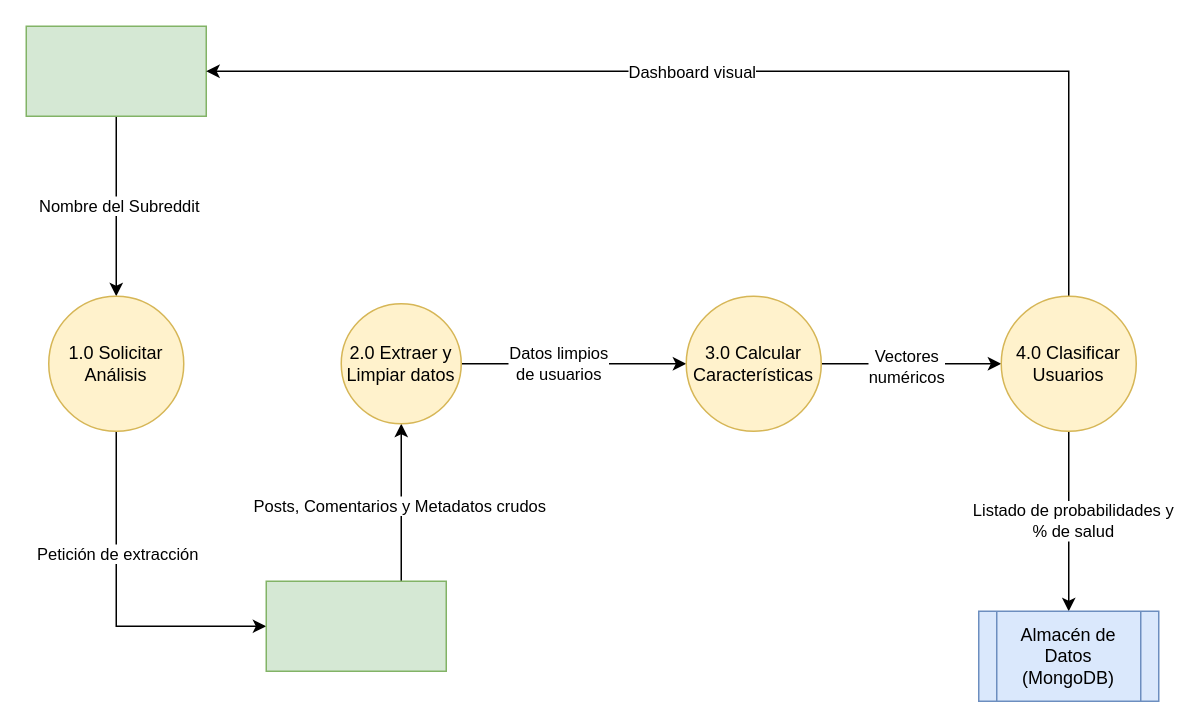
This 1199x728 diagram has some shape labels left out. The shapes that lost their labels are listed below. From the top down, each one's box as (x1, y1, x2, y2) in pixels, then its label:
(25, 25, 206, 116): Analista
(265, 580, 446, 671): API de Reddit
